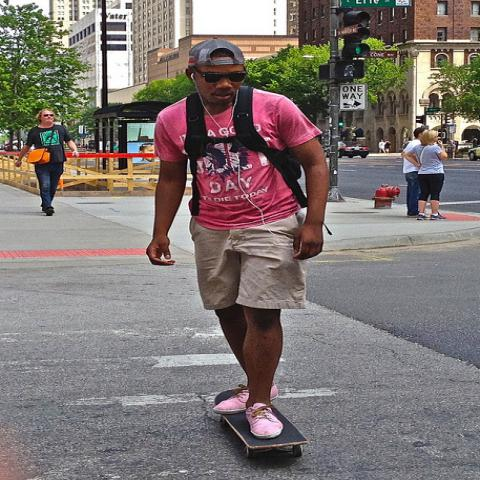car: (324, 140, 369, 158), (468, 143, 479, 161)
